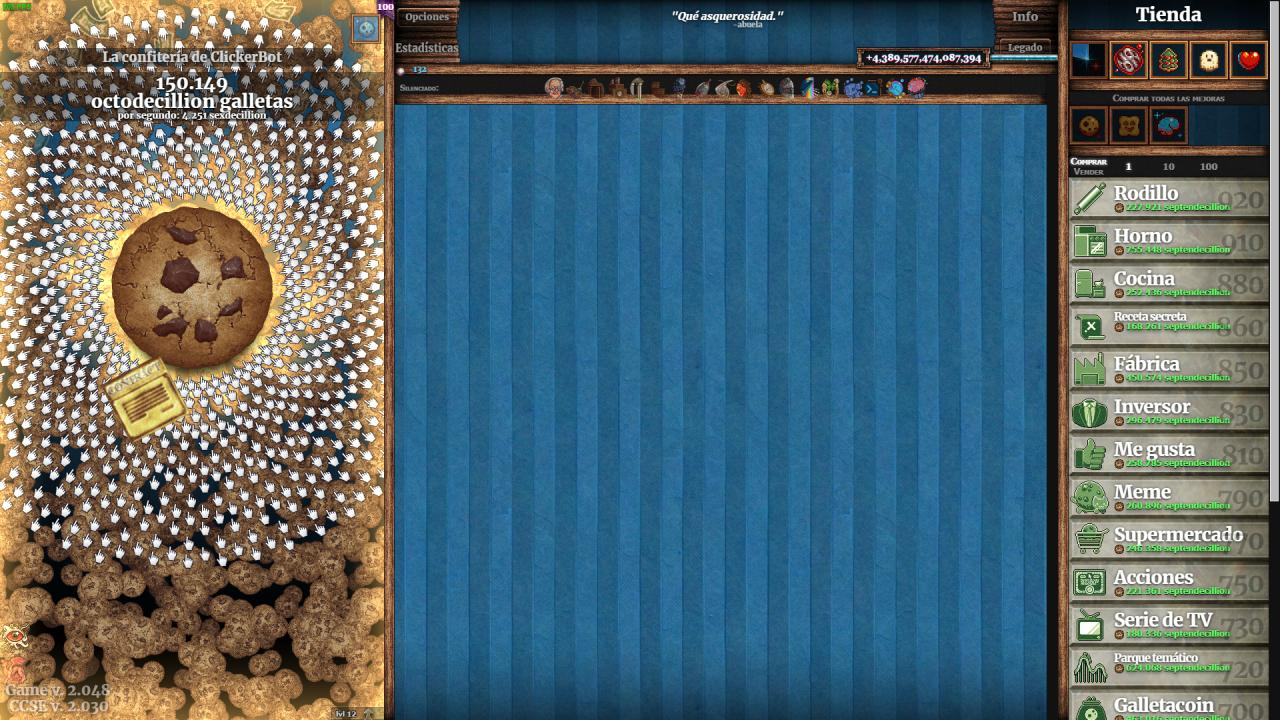GoldenCartridge: (102, 354, 192, 445)
